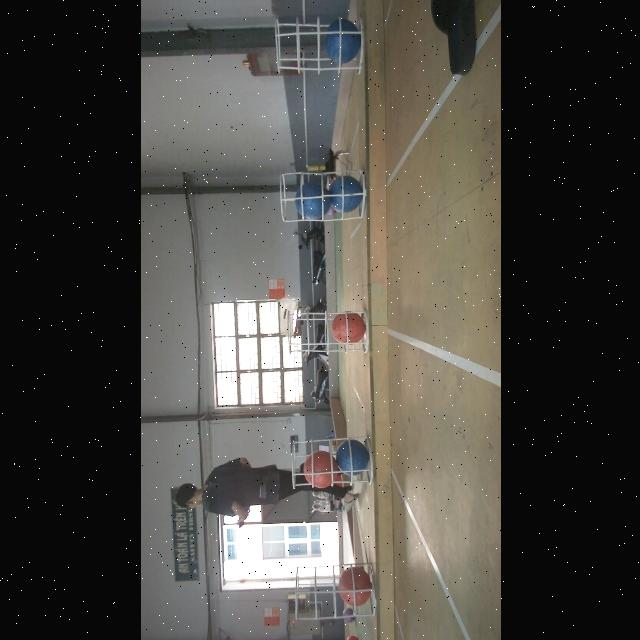B: (324, 18, 361, 62), (328, 176, 362, 214), (294, 182, 328, 220), (336, 440, 368, 476)
R: (302, 450, 338, 488), (337, 566, 371, 606), (330, 310, 364, 346)
